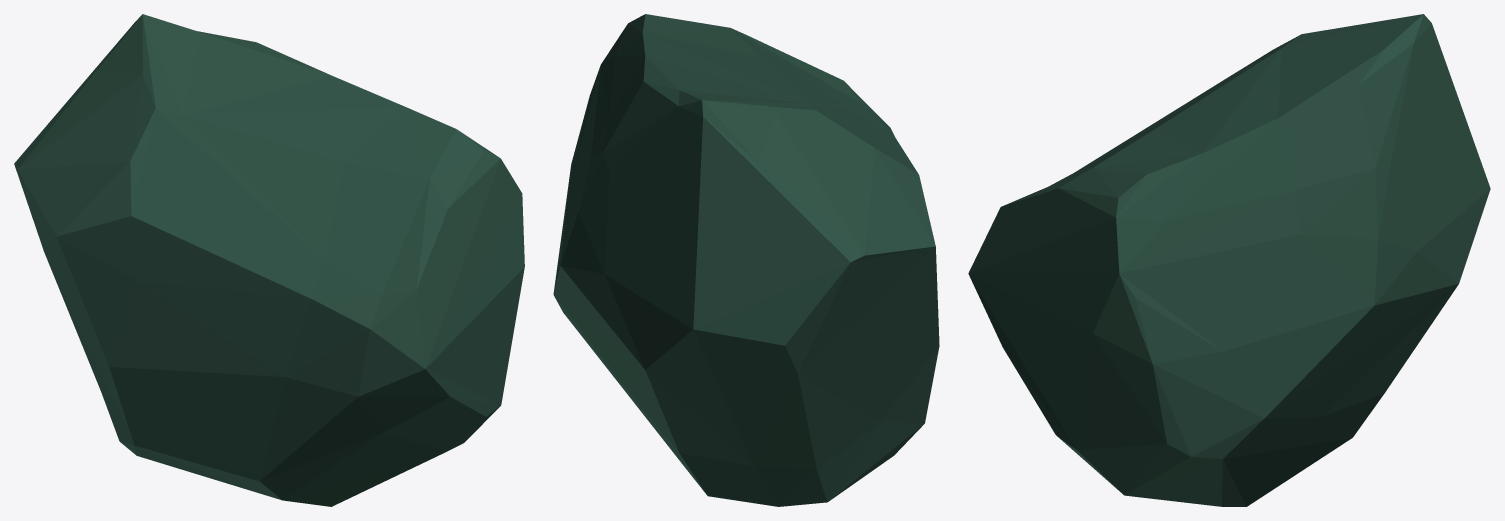
The model's file is SM_large_rock_33.fbx.
3 renders of one model, left to right at view 1: azimuth 30°, elevation 25°; view 2: azimuth 150°, elevation 25°; view 3: azimuth 270°, elevation 25°, orthographic. The views are drawn at different scales.
Parts seen in each view (by area): view 1: large_rock_33; view 2: large_rock_33; view 3: large_rock_33.
Part boxes in pixels (x1,y1,x2,y2): large_rock_33: (14, 14, 524, 506); large_rock_33: (553, 14, 939, 506); large_rock_33: (968, 14, 1490, 506).
Bounding box in the file's own units: 37.69 × 38.57 × 40.99.
